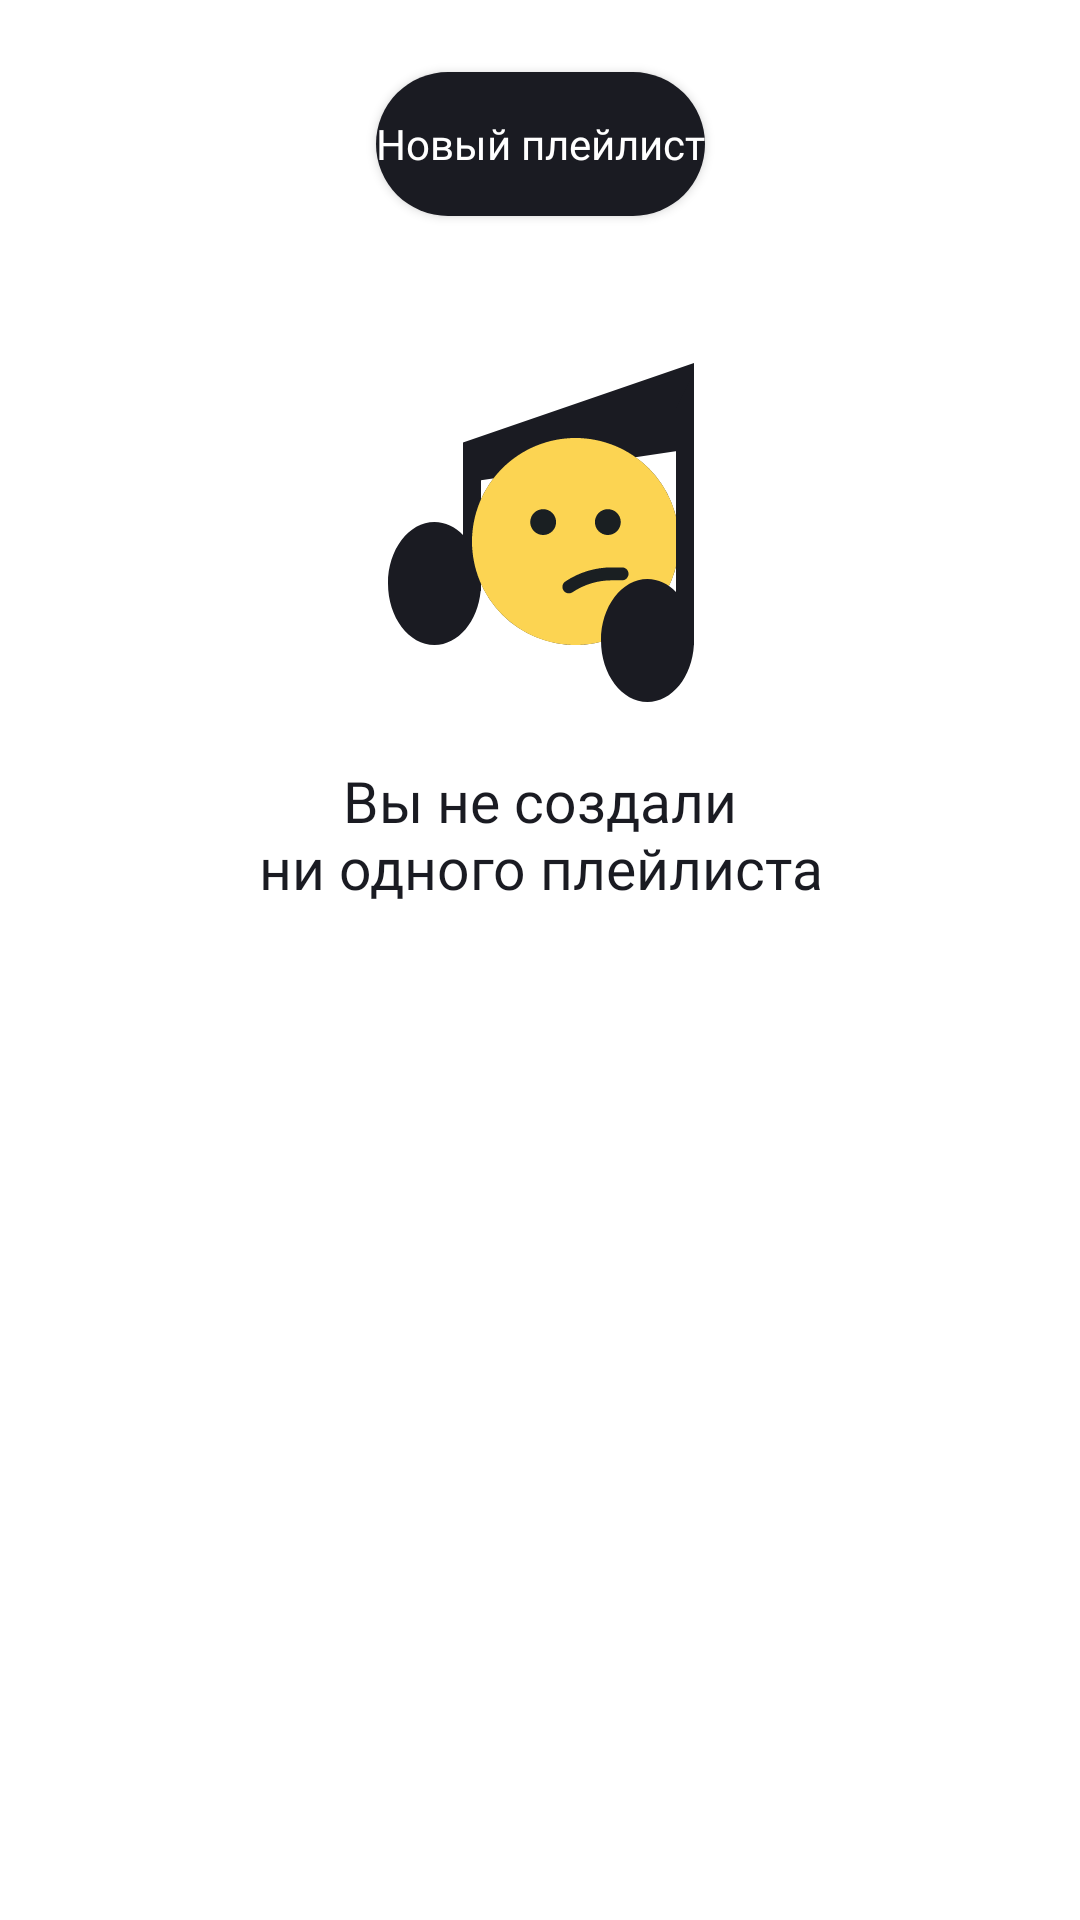

Where icons sit on this 1080 x 1920 app screen, as [x1, y1, x2, y2]:
nothingfind: [388, 363, 694, 702]
